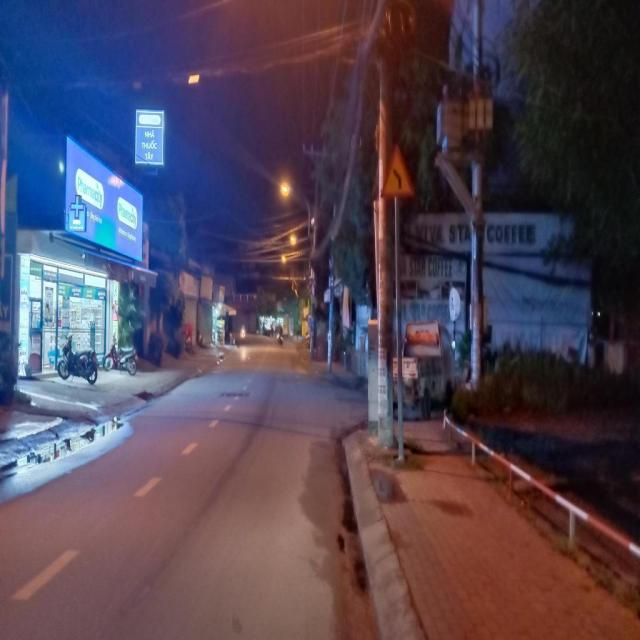cho_ngoat_nguy_hiem_ben_trai: (380, 138, 413, 196)
